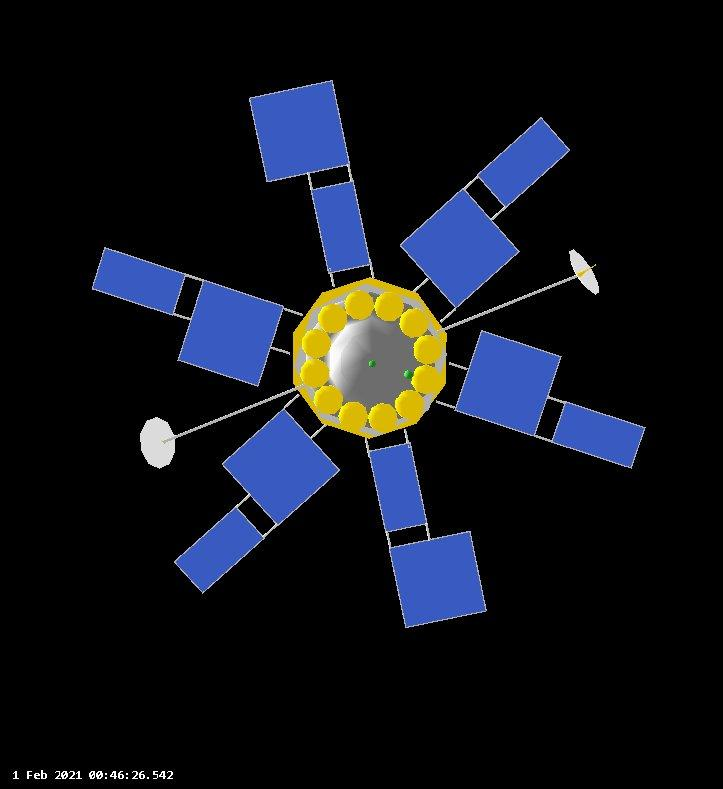antenna: (563, 244, 608, 301), (138, 415, 182, 471)
body: (289, 273, 451, 439)
solar: (397, 113, 574, 312), (169, 404, 344, 597), (89, 242, 289, 395), (449, 328, 650, 473), (244, 72, 376, 279), (364, 438, 492, 633)
